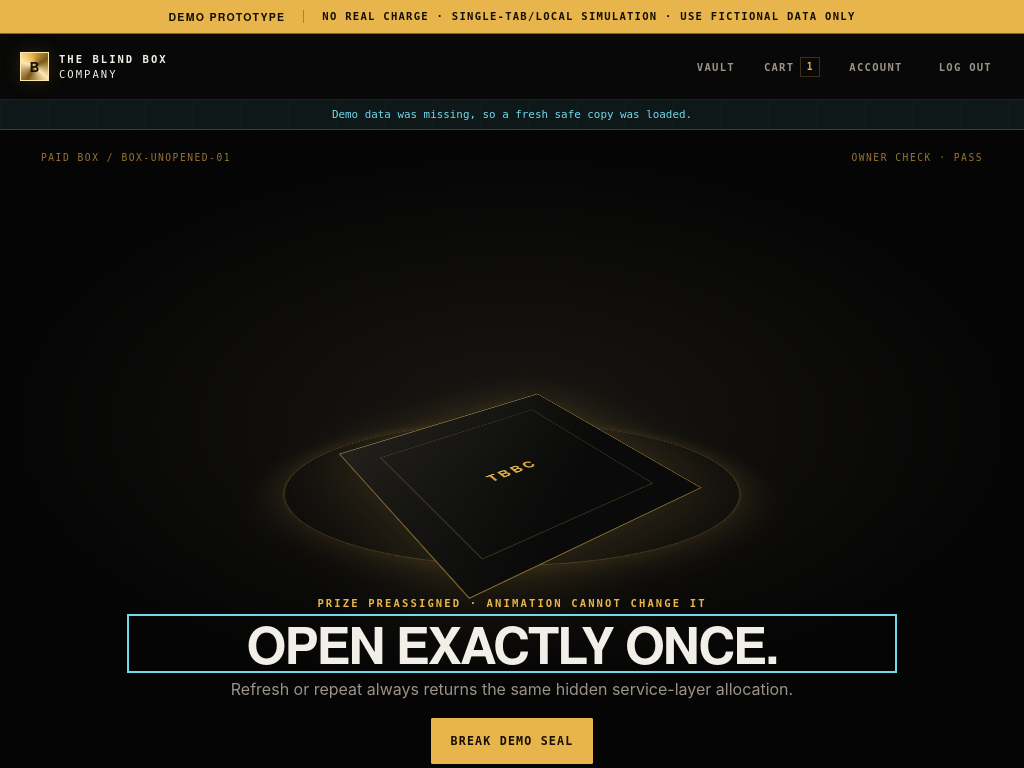
Test case: app components › clears the reveal timer before switching to another sealed box
The image size is (1024, 768).
Click the button "Break demo seal": (512,741) left=430, top=718, right=593, bottom=764
Wait 1700 ms
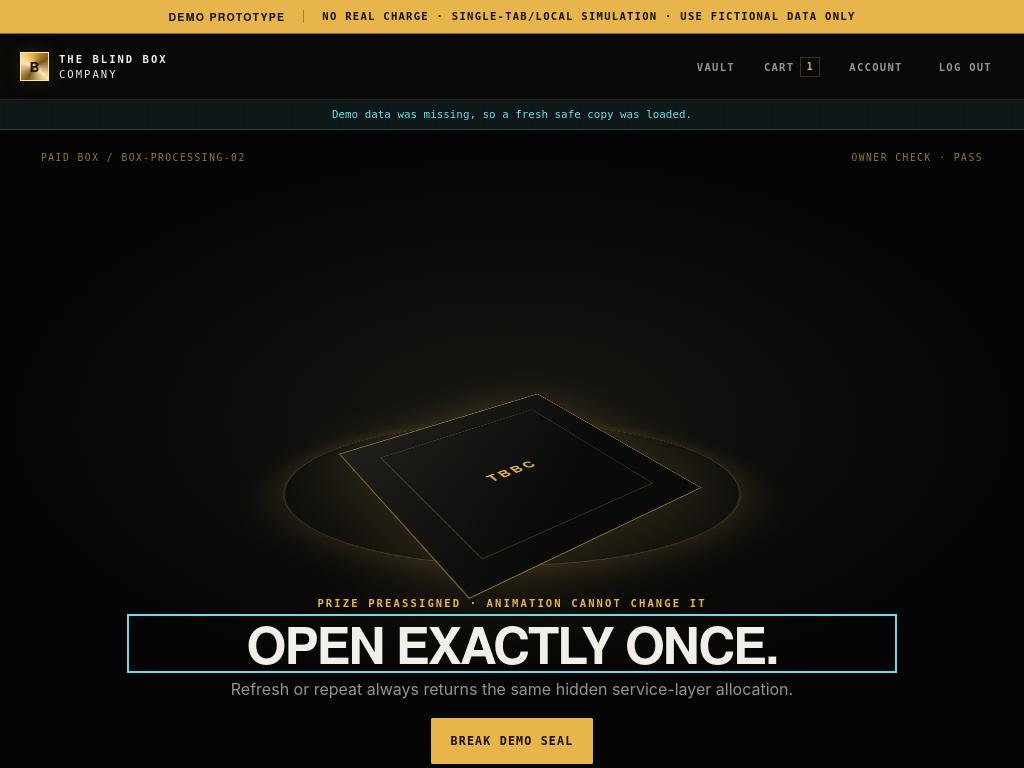
Check: the text "PAID BOX / BOX-PROCESSING-02" is shown, box left=41, top=152, right=246, bottom=163
